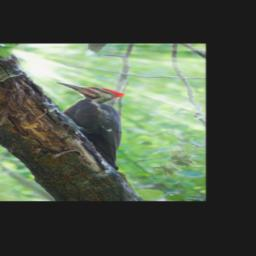Woodpecker: (54, 82, 127, 171)
